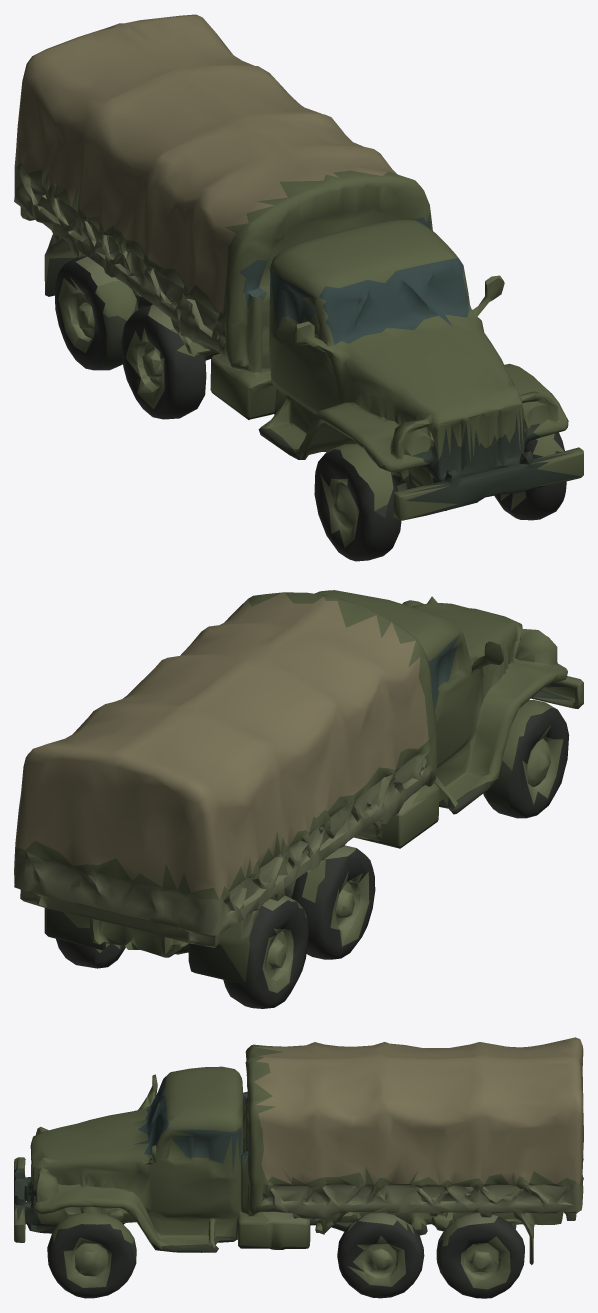
File: truck.glb
3 views of the same model, one above another, from view 1: azimuth 30°, elevation 25°; view 2: azimuth 150°, elevation 25°; view 3: azimuth 270°, elevation 25° (orthographic). The views are drawn at different scales.
Visible parts, largest first — view 1: truckBody, truckWheel1, truckWheel0, truckWheel2, truckWheel3; view 2: truckBody, truckWheel1, truckWheel2, truckWheel0, truckWheel5; view 3: truckBody, truckWheel4, truckWheel3, truckWheel5.
Boxes of the visible parts, x1,y1,x2,y2 form: truckBody: [14, 14, 583, 520]; truckWheel1: [121, 305, 206, 419]; truckWheel0: [314, 449, 401, 561]; truckWheel2: [54, 256, 135, 370]; truckWheel3: [494, 432, 566, 520]; truckBody: [14, 590, 583, 984]; truckWheel1: [292, 848, 375, 959]; truckWheel2: [223, 900, 308, 1008]; truckWheel0: [483, 708, 569, 818]; truckWheel5: [56, 939, 125, 968]; truckBody: [14, 1037, 583, 1285]; truckWheel4: [337, 1216, 424, 1298]; truckWheel3: [47, 1214, 135, 1298]; truckWheel5: [441, 1216, 524, 1298].
Bounding box in the file's own units: 2.09 × 2.61 × 6.5.
